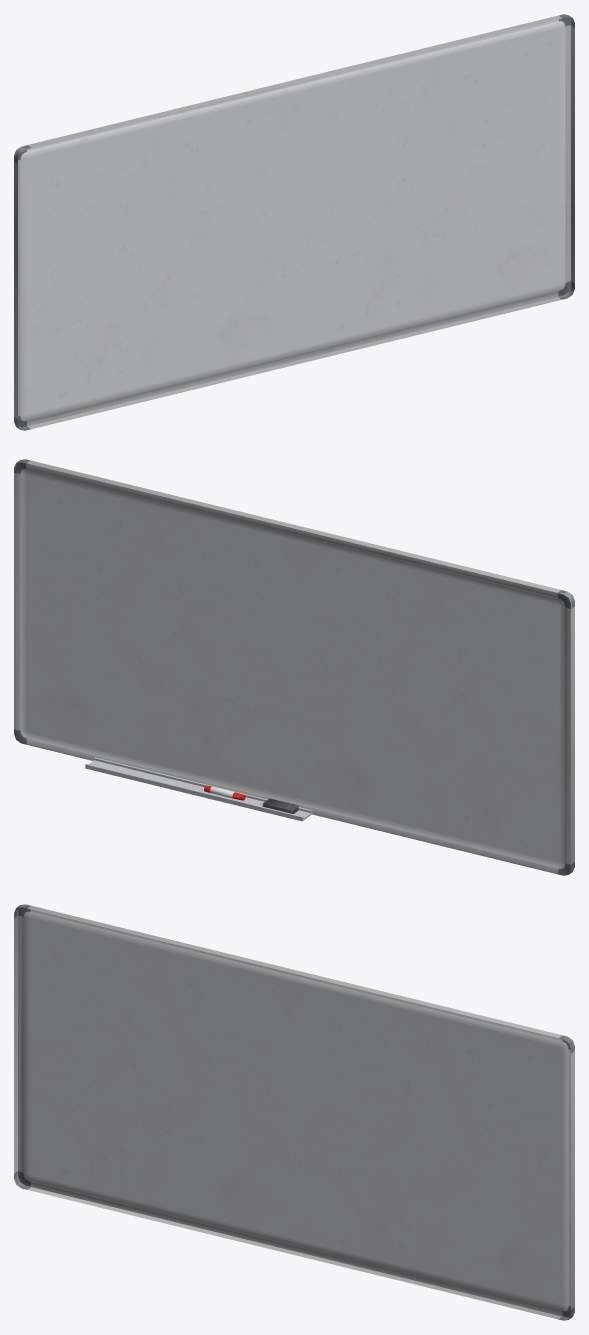
File: whiteboard.glb
3 renders of one model, top to bottom at view 1: azimuth 30°, elevation 25°; view 2: azimuth 150°, elevation 25°; view 3: azimuth 330°, elevation 25°, orthographic.
Visible parts, largest first — view 1: WhiteBoard_low; view 2: WhiteBoard_low, MarkerHolder_low; view 3: WhiteBoard_low.
Boxes of the visible parts, x1,y1,x2,y2 form: WhiteBoard_low: [14, 14, 574, 430]; WhiteBoard_low: [14, 459, 574, 875]; MarkerHolder_low: [85, 757, 312, 821]; WhiteBoard_low: [14, 904, 574, 1320].
Size of the model in its own units: 3.98 by 1.92 by 0.17.
1 material, 1 textured.
